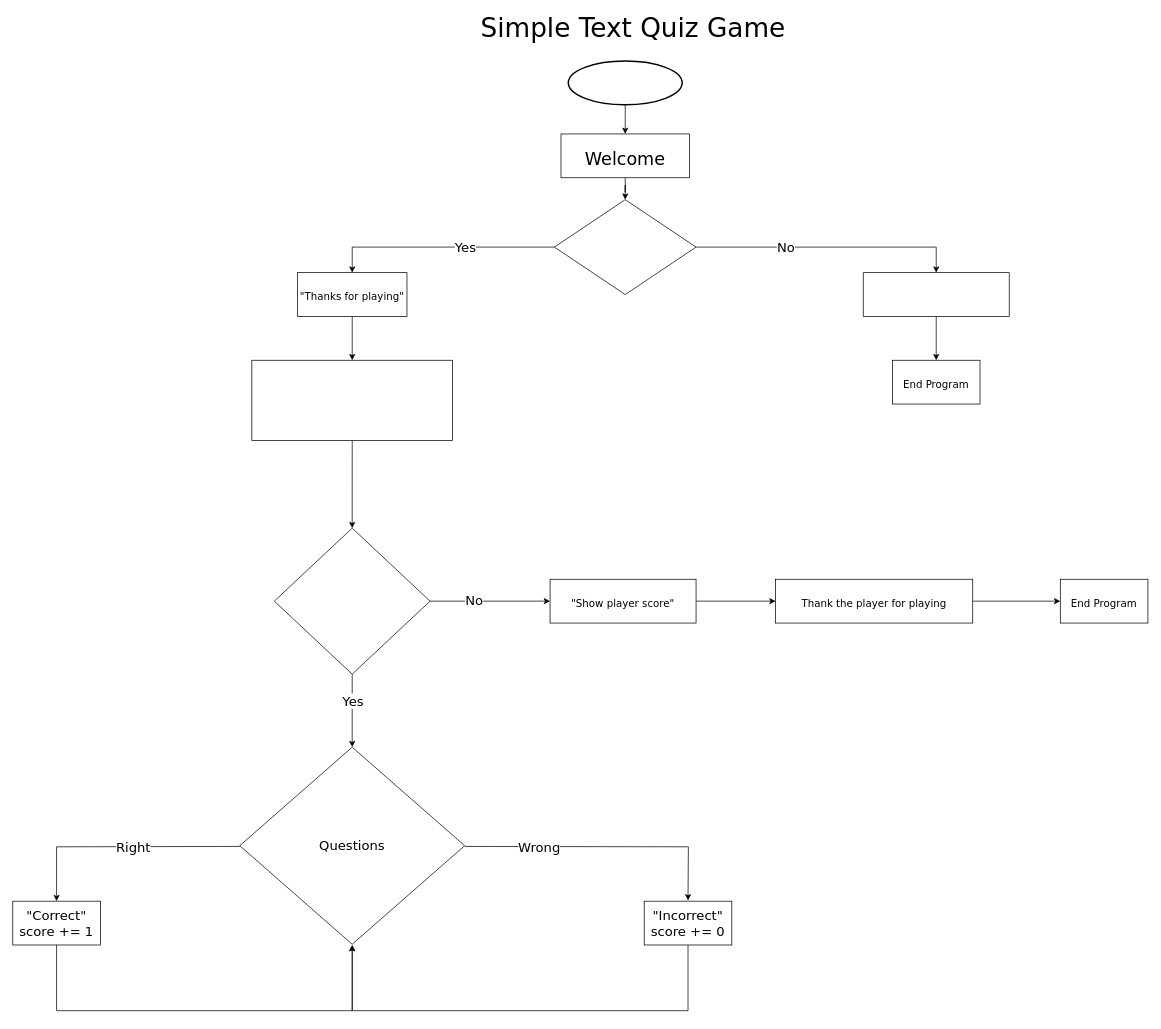
The diagram is 1161 pixels wide and 1029 high, and some of its shapes have lost their labels. Here are the shapes that lost their labels. From the top down, the centre of each, then its label:
(x=625, y=82): Start
(x=625, y=247): "Do you want to play?"
(x=935, y=294): "Hope you'll play next time"
(x=352, y=400): Printing Out the Scoring System
(x=352, y=600): Is question left?
